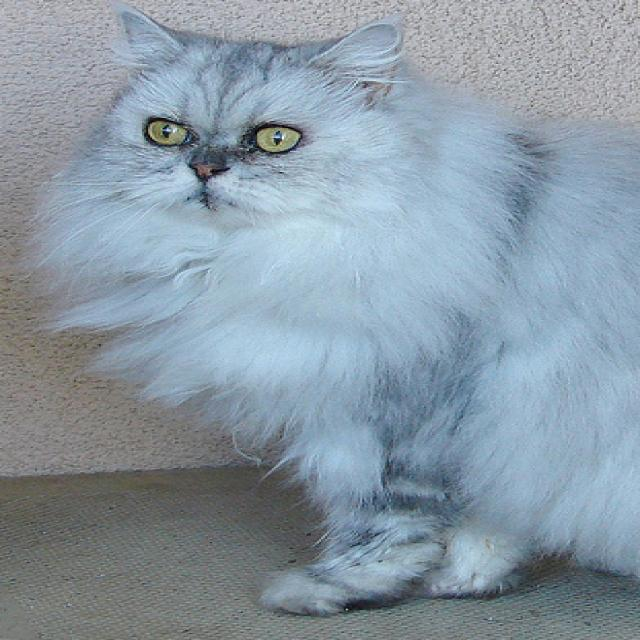Persian: (24, 1, 640, 618)
